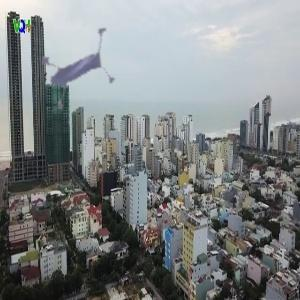drone: (16, 3, 140, 127)
